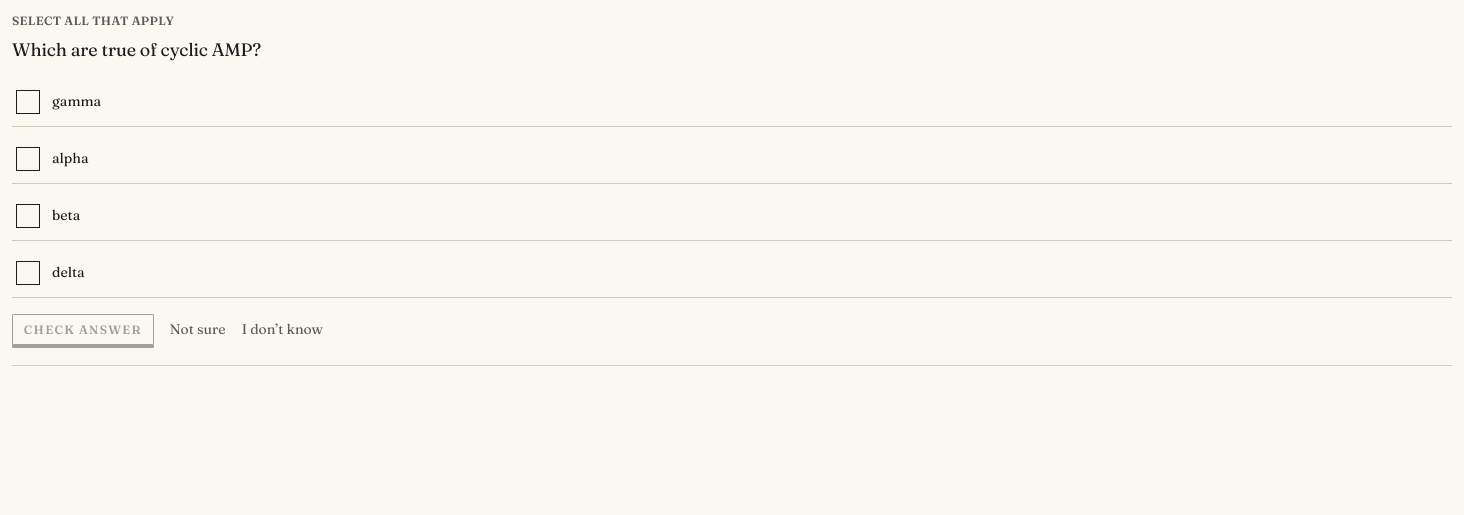
MultiCard › is right only with every true statement and no false one
Click the checkbox "alpha": x=70, y=158 [12,135,1452,184]
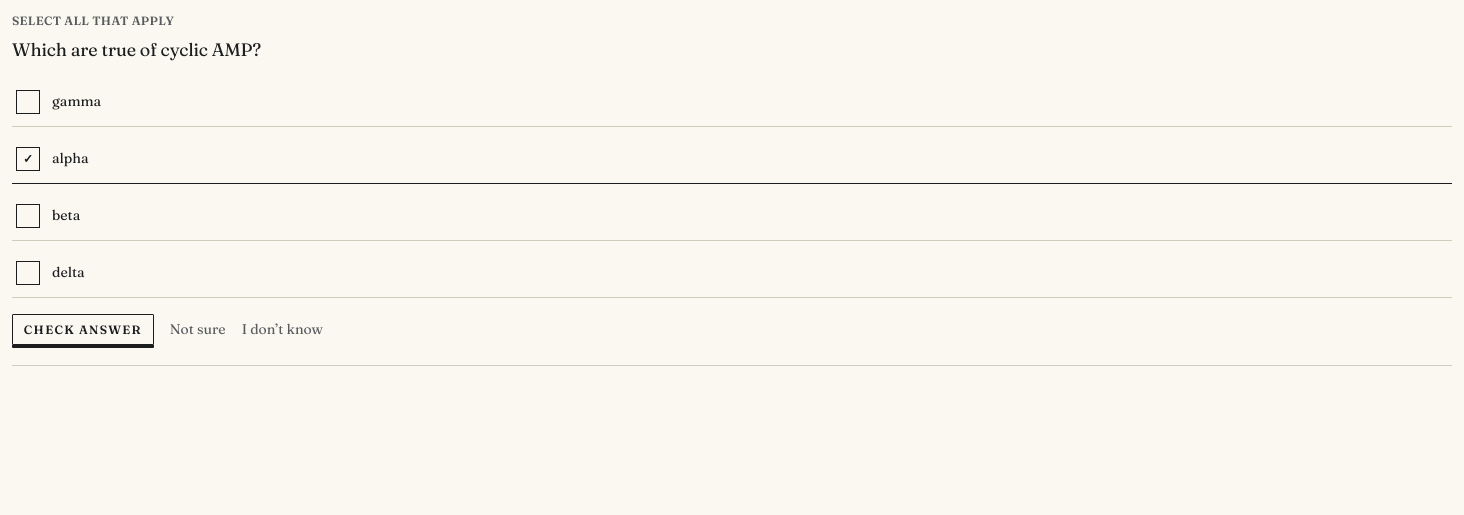
Click the checkbox "beta": x=28, y=216 [12,192,1452,241]
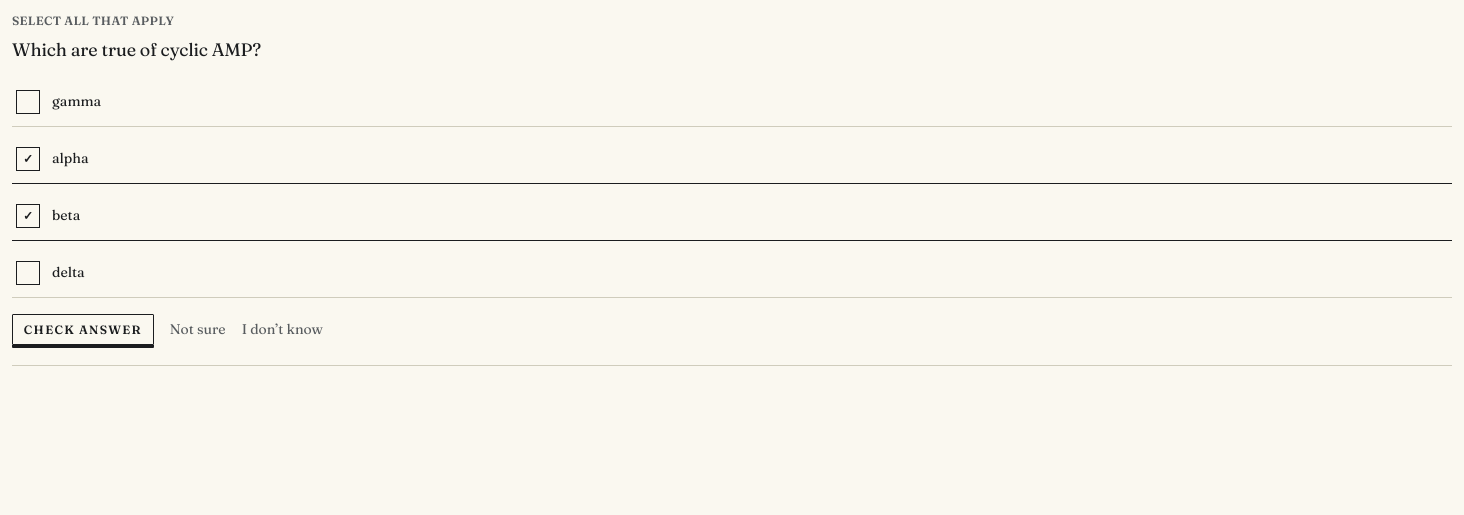
Click the button "Check answer": x=83, y=330 [12,314,154,346]
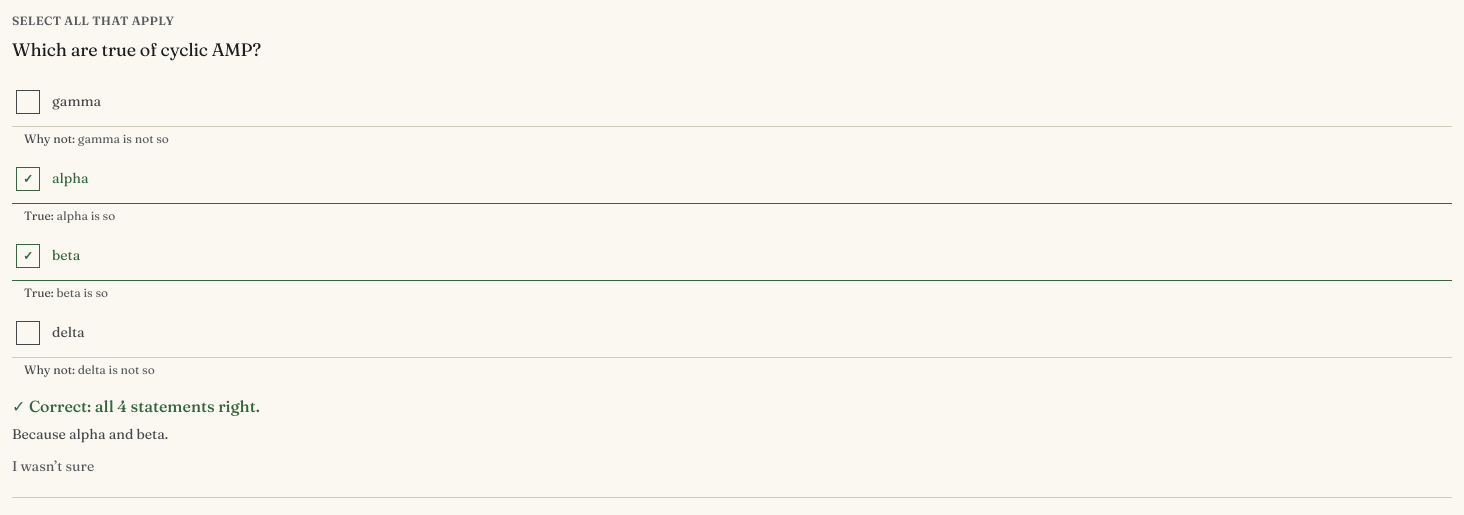
Now the text "✓ Correct: all 4 statements right." is shown, box [12,396,260,416]
